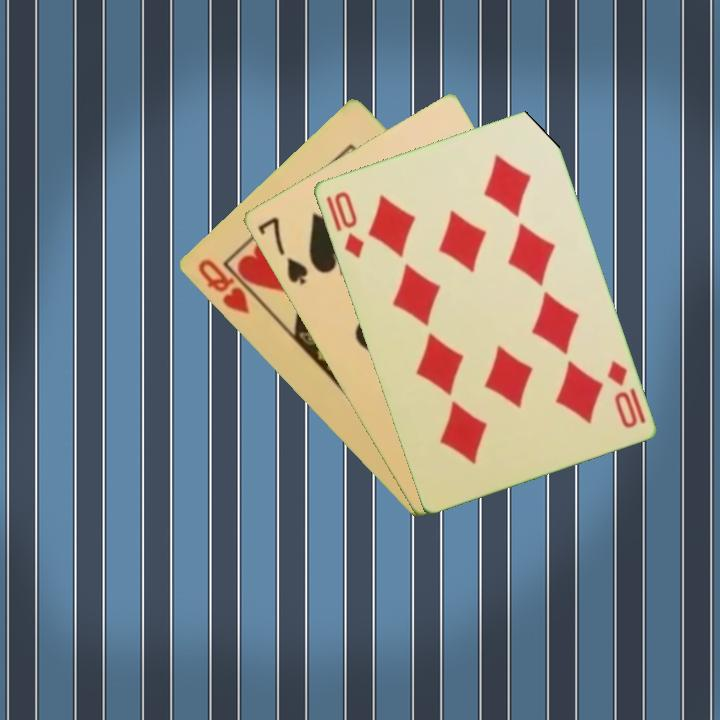10d: (602, 357, 640, 431), (330, 187, 367, 261)
7s: (253, 213, 311, 288)
Qh: (194, 255, 264, 317)
